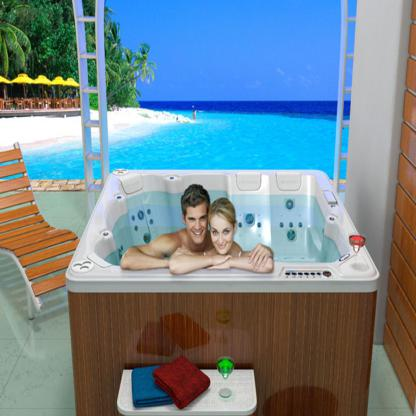face: (211, 215, 234, 255), (186, 208, 208, 245)
